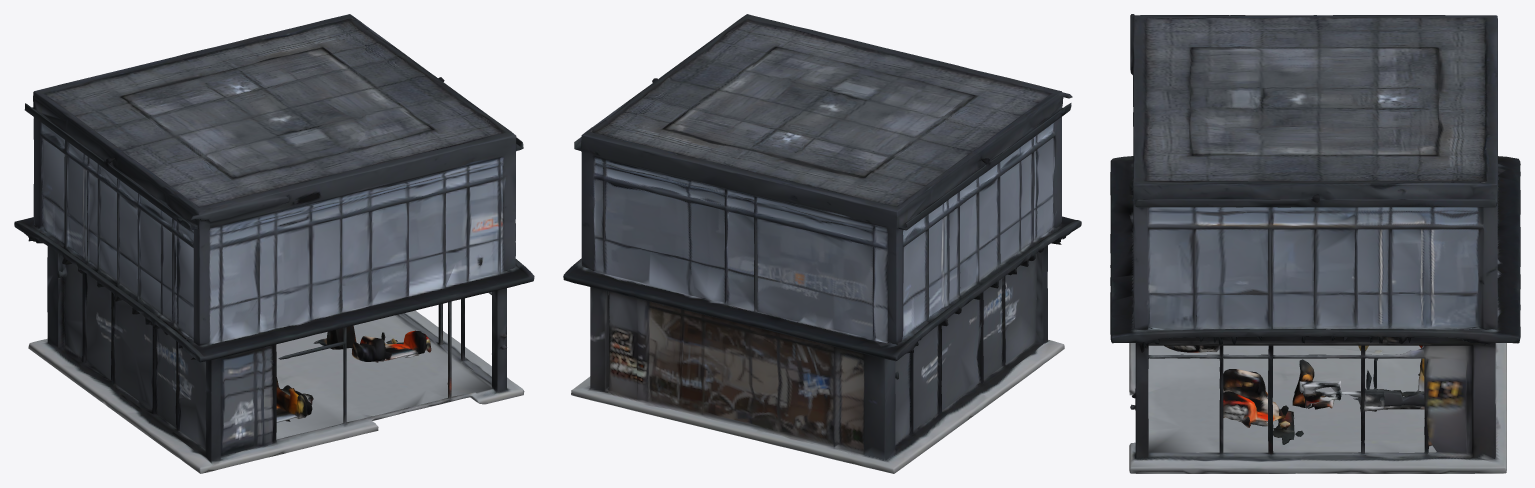
File: building-gym.glb
The picture shows the model from 3 angles, left to right: view 1: azimuth 30°, elevation 25°; view 2: azimuth 150°, elevation 25°; view 3: azimuth 270°, elevation 25°; orthographic projection. The views are drawn at different scales.
Visible parts, largest first — view 1: tripo_node_c4e1914c-86b5-4051-a5d0-b16f1b88c505; view 2: tripo_node_c4e1914c-86b5-4051-a5d0-b16f1b88c505; view 3: tripo_node_c4e1914c-86b5-4051-a5d0-b16f1b88c505.
Boxes of the visible parts, x1,y1,x2,y2 form: tripo_node_c4e1914c-86b5-4051-a5d0-b16f1b88c505: (14,14,534,473); tripo_node_c4e1914c-86b5-4051-a5d0-b16f1b88c505: (563,14,1081,473); tripo_node_c4e1914c-86b5-4051-a5d0-b16f1b88c505: (1110,14,1520,473).
Size of the model in its own units: 12.24 by 9 by 11.69.
Materials: 1 (1 with a texture image).
